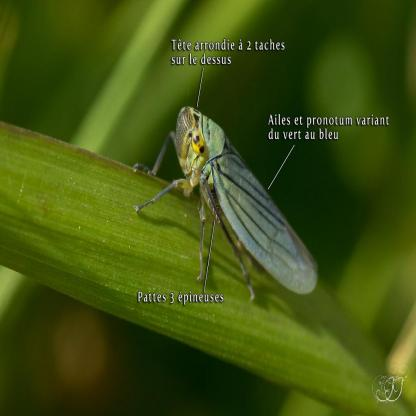Green-Leafhopper: (135, 106, 320, 309)
